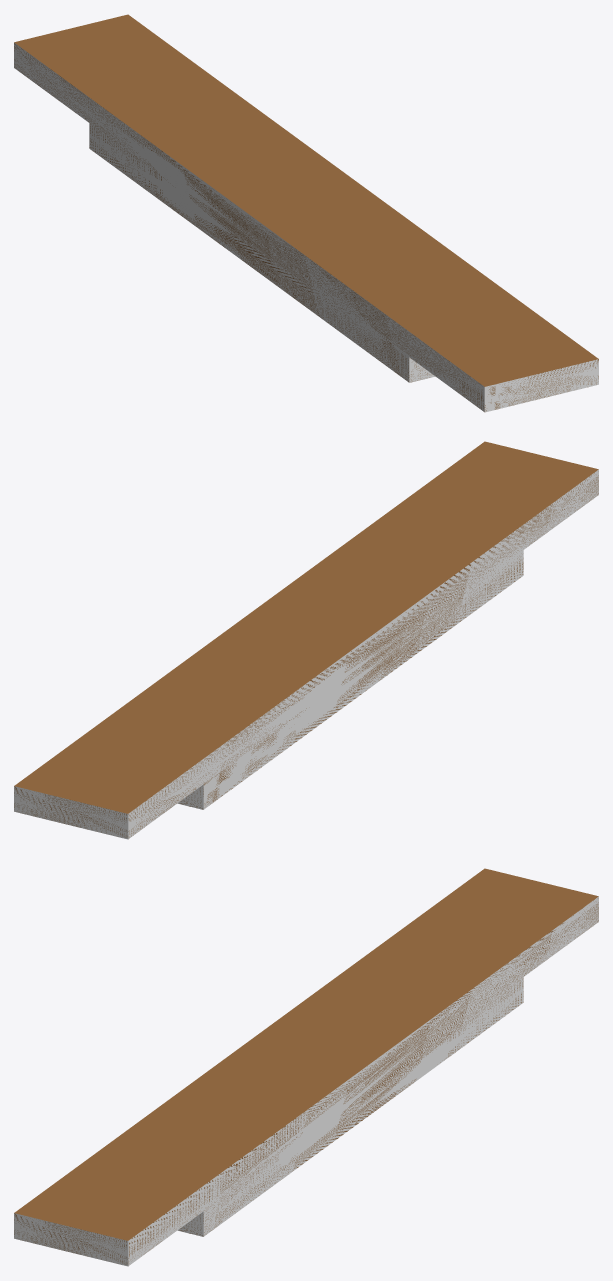
File: original-14.obj
3 views of the same model, one above another, from view 1: azimuth 30°, elevation 25°; view 2: azimuth 150°, elevation 25°; view 3: azimuth 330°, elevation 25° (orthographic).
Visible parts, largest first — view 1: drawer_frame-rails2/drawer_frame-rails12/mesh15/mesh15-geometry#; view 2: drawer_frame-rails2/drawer_frame-rails12/mesh15/mesh15-geometry#; view 3: drawer_frame-rails2/drawer_frame-rails12/mesh15/mesh15-geometry#.
Boxes of the visible parts, x1=… form: drawer_frame-rails2/drawer_frame-rails12/mesh15/mesh15-geometry#: x1=14, y1=14, x2=598, y2=412; drawer_frame-rails2/drawer_frame-rails12/mesh15/mesh15-geometry#: x1=14, y1=441, x2=598, y2=839; drawer_frame-rails2/drawer_frame-rails12/mesh15/mesh15-geometry#: x1=14, y1=868, x2=598, y2=1266.
Bounding box in the file's own units: 0.0918 × 0.0393 × 0.6558.
